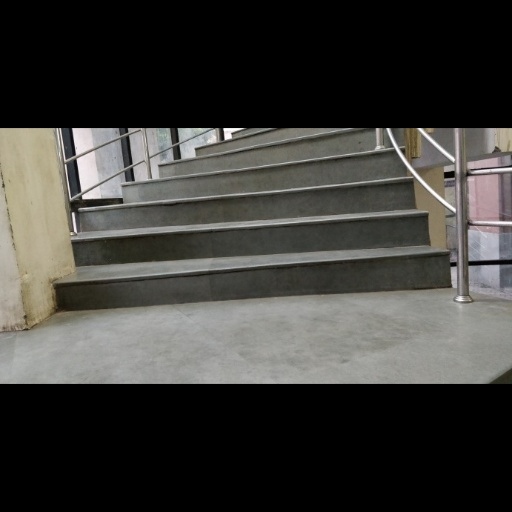Stairs: (55, 130, 451, 310)
